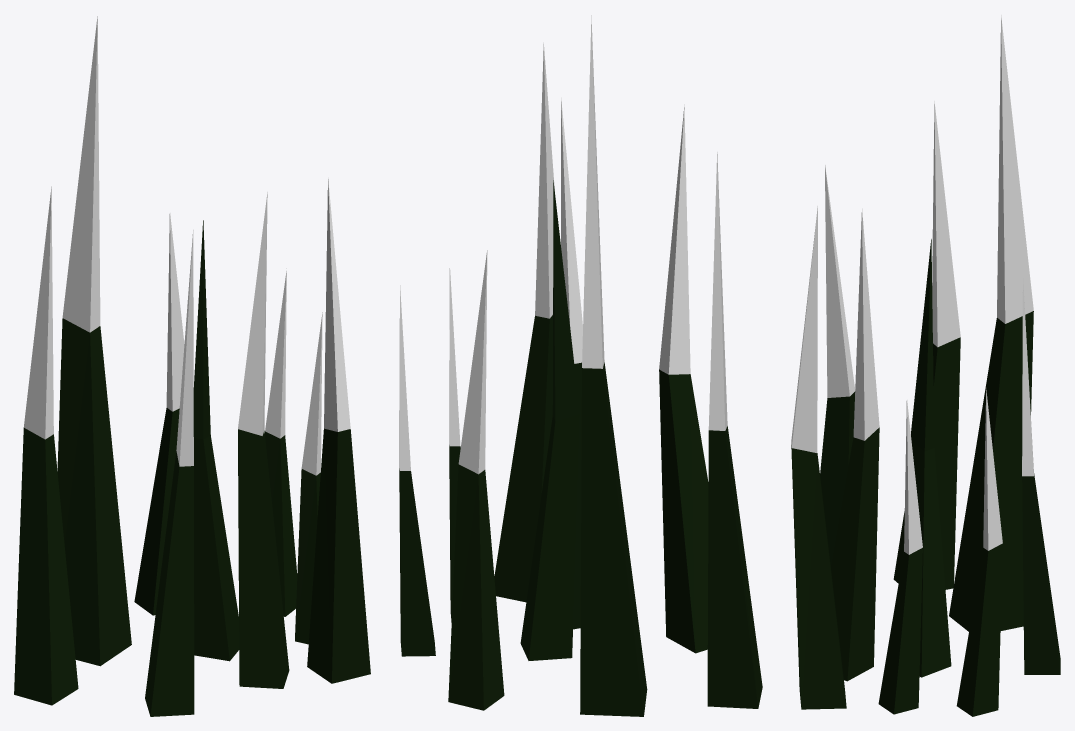
File: GrassWSnow_01.obj
3 renders of one model, left to right at view 1: azimuth 30°, elevation 25°; view 2: azimuth 150°, elevation 25°; view 3: azimuth 270°, elevation 25°, orthographic. The views are drawn at different scales.
Visible parts, largest first — view 1: GrassWSnow1_Cube.015; view 2: GrassWSnow1_Cube.015; view 3: GrassWSnow1_Cube.015.
Part boxes in pixels (box(x1,y1,x2,y2)): GrassWSnow1_Cube.015: box(14, 16, 370, 716); GrassWSnow1_Cube.015: box(399, 15, 762, 716); GrassWSnow1_Cube.015: box(791, 15, 1060, 716).
Size of the model in its own units: 0.378 by 0.7423 by 0.2953.
